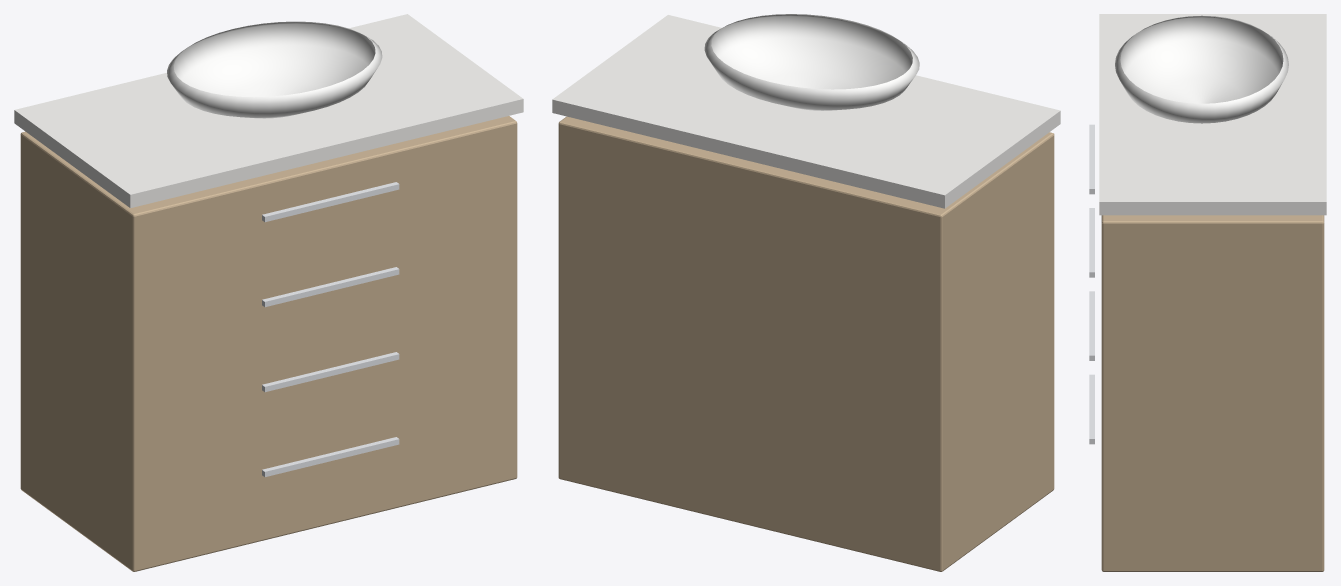
Rendered from vanity-standing-4drawer.glb.
The picture shows the model from 3 angles, left to right: view 1: azimuth 30°, elevation 25°; view 2: azimuth 150°, elevation 25°; view 3: azimuth 270°, elevation 25°; orthographic projection. The views are drawn at different scales.
Parts seen in each view (by area): view 1: body; view 2: body; view 3: body.
Boxes of the visible parts, bbox=[...] form: body: bbox=[14, 14, 523, 571]; body: bbox=[552, 14, 1060, 571]; body: bbox=[1089, 14, 1326, 571].
Size of the model in its own units: 0.92 by 0.96 by 0.491.
